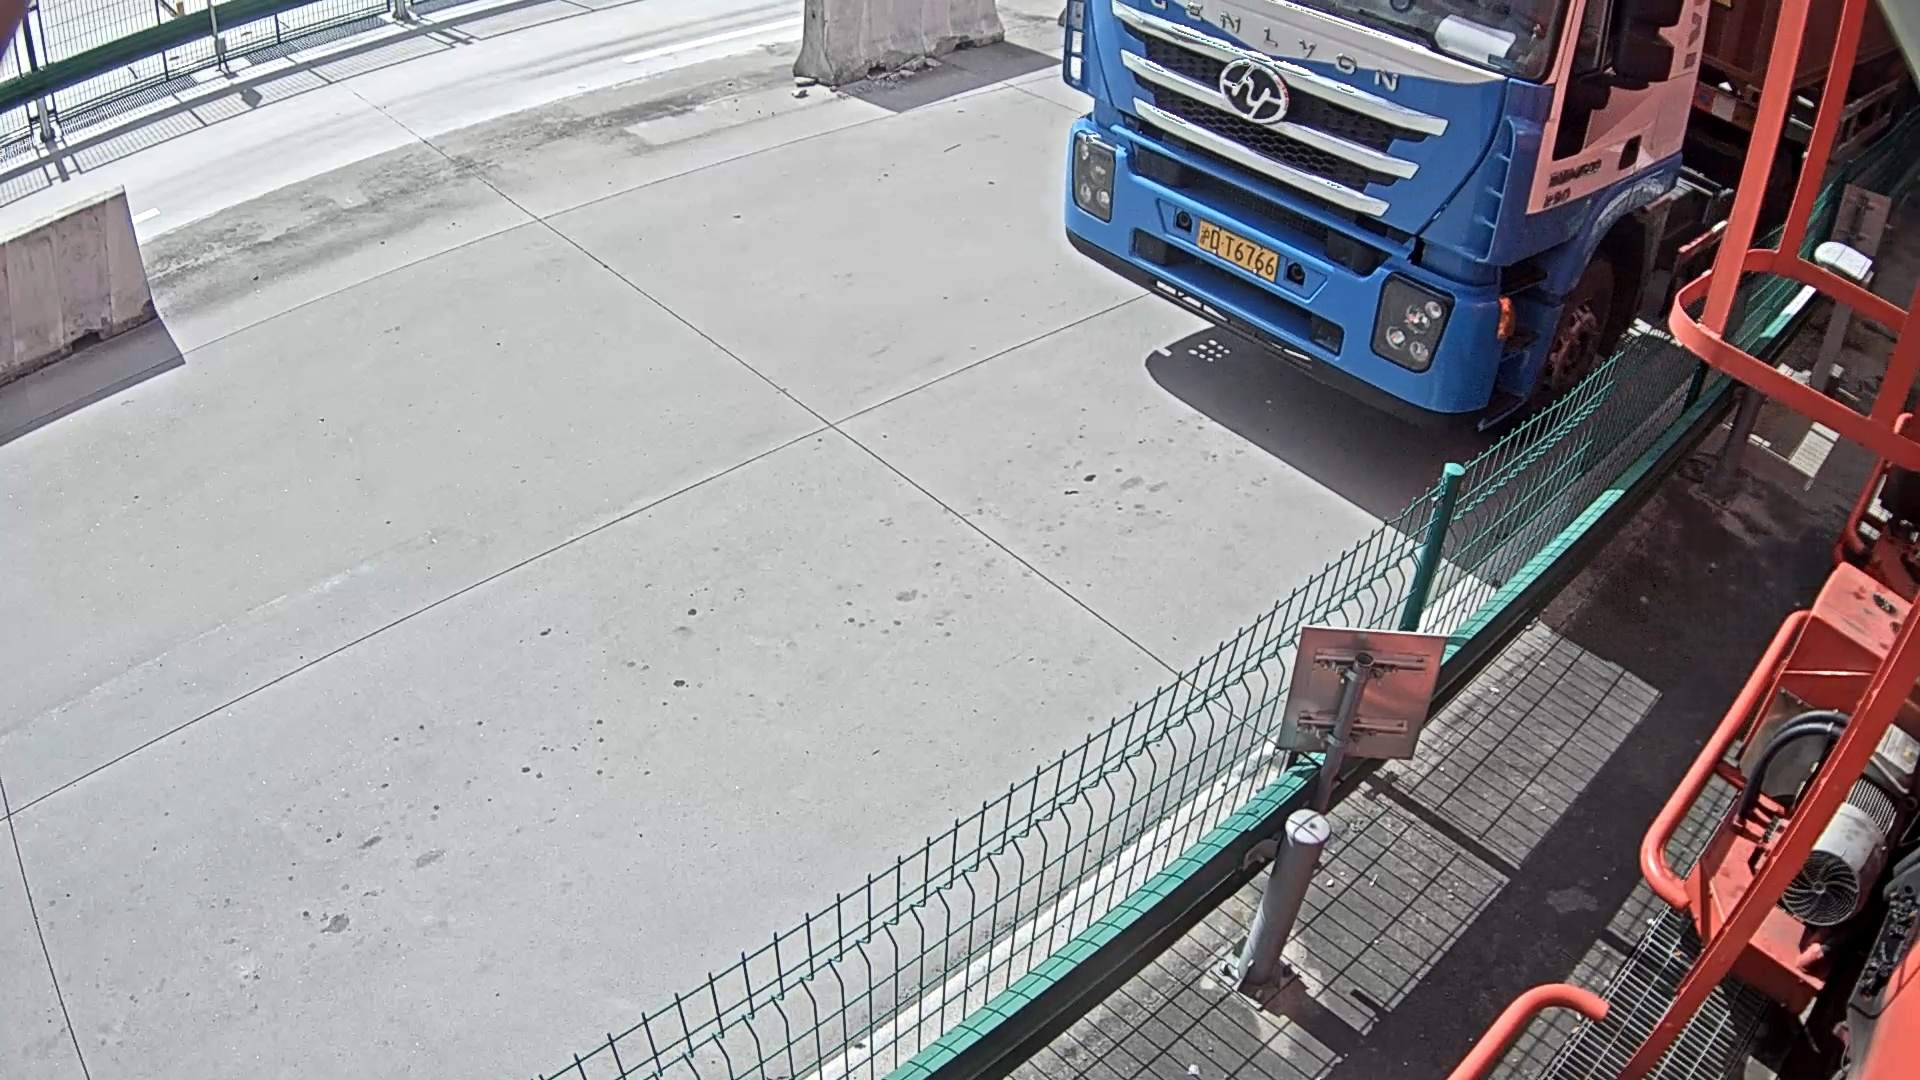head: (1054, 1, 1708, 403)
plate: (1192, 220, 1282, 281)
